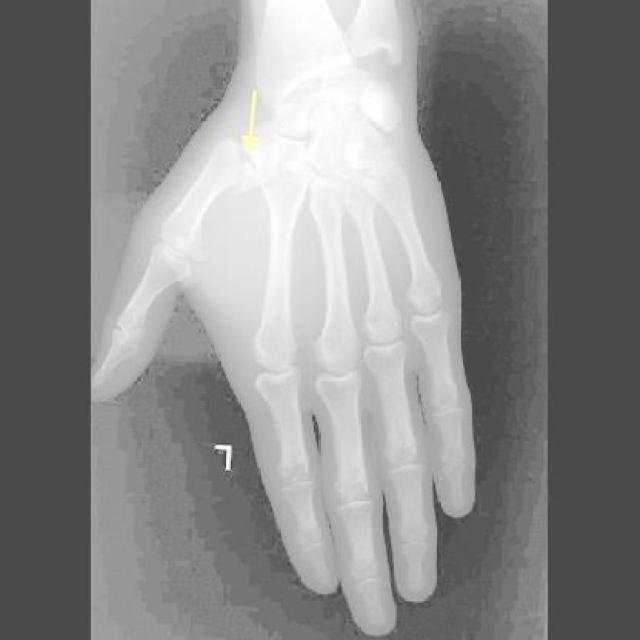Fracture: (222, 140, 267, 196)
